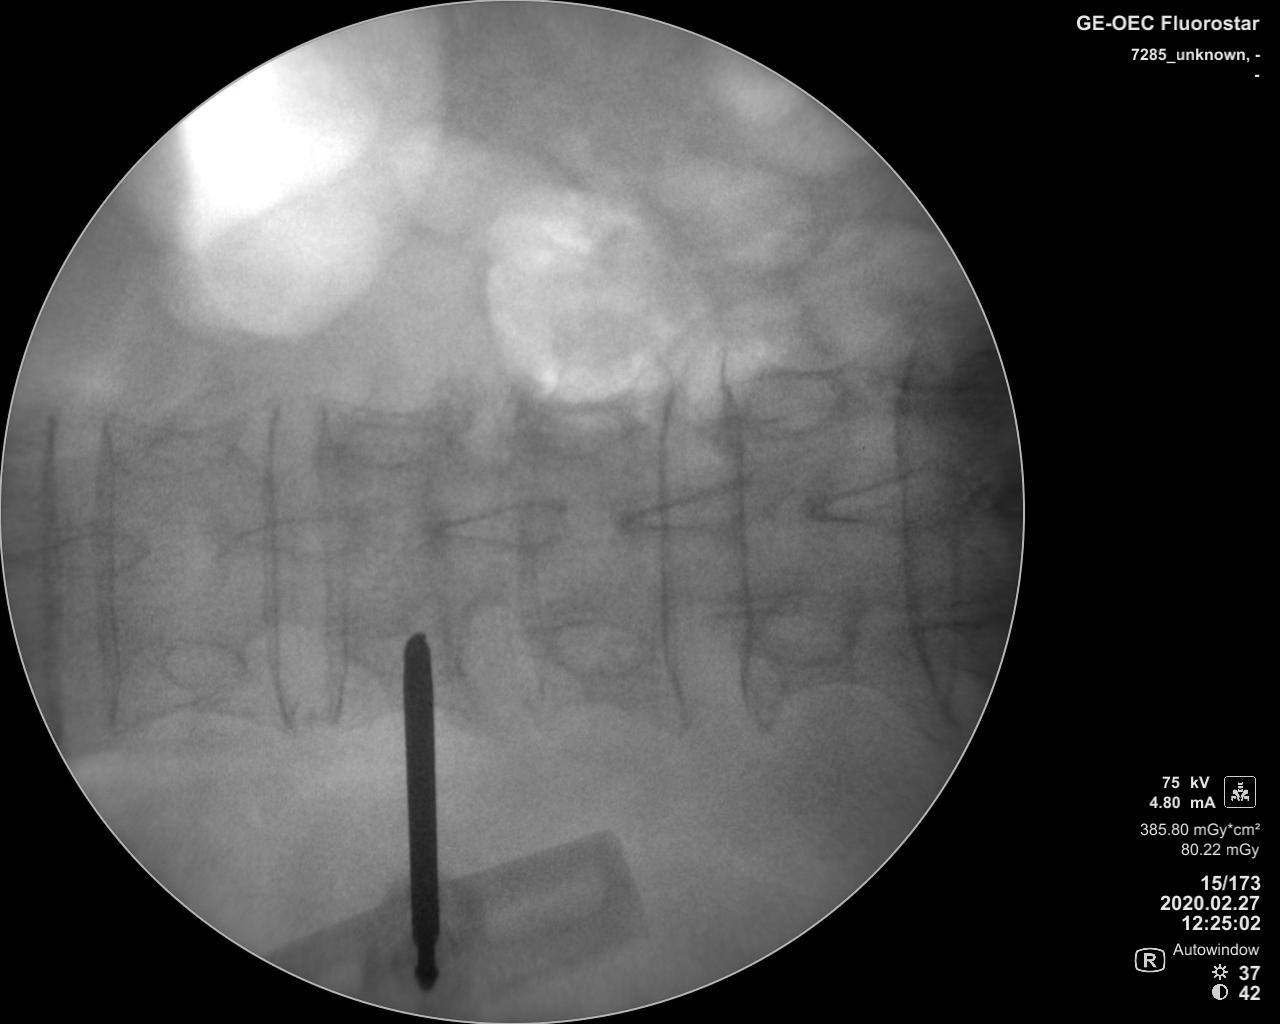eyes: (532, 619, 650, 683), (740, 367, 846, 437), (521, 396, 638, 459), (332, 628, 458, 682), (334, 408, 442, 467), (138, 419, 243, 479), (752, 608, 854, 668), (156, 639, 248, 692)
line: (886, 341, 951, 730), (715, 371, 766, 736), (257, 392, 300, 738), (654, 380, 690, 739), (313, 393, 350, 728), (89, 411, 124, 736), (36, 411, 64, 732)
nose: (798, 459, 983, 531), (614, 476, 782, 543), (427, 492, 573, 554), (8, 529, 153, 578), (230, 515, 368, 562)
